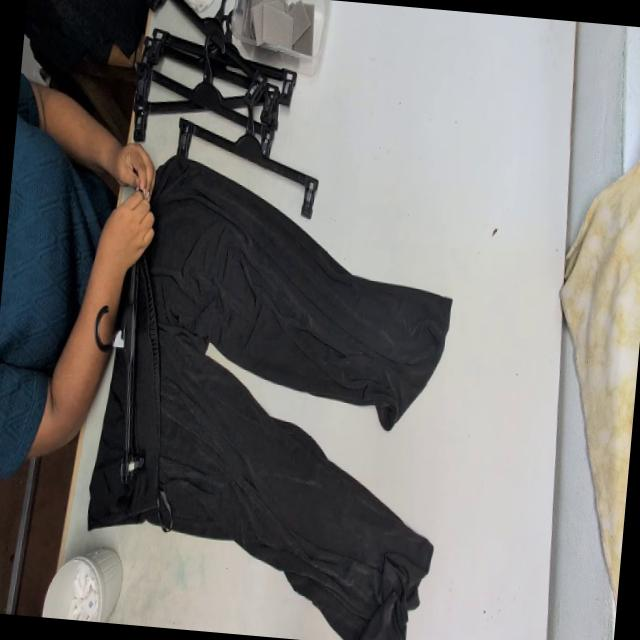new-garment: (89, 155, 450, 640)
